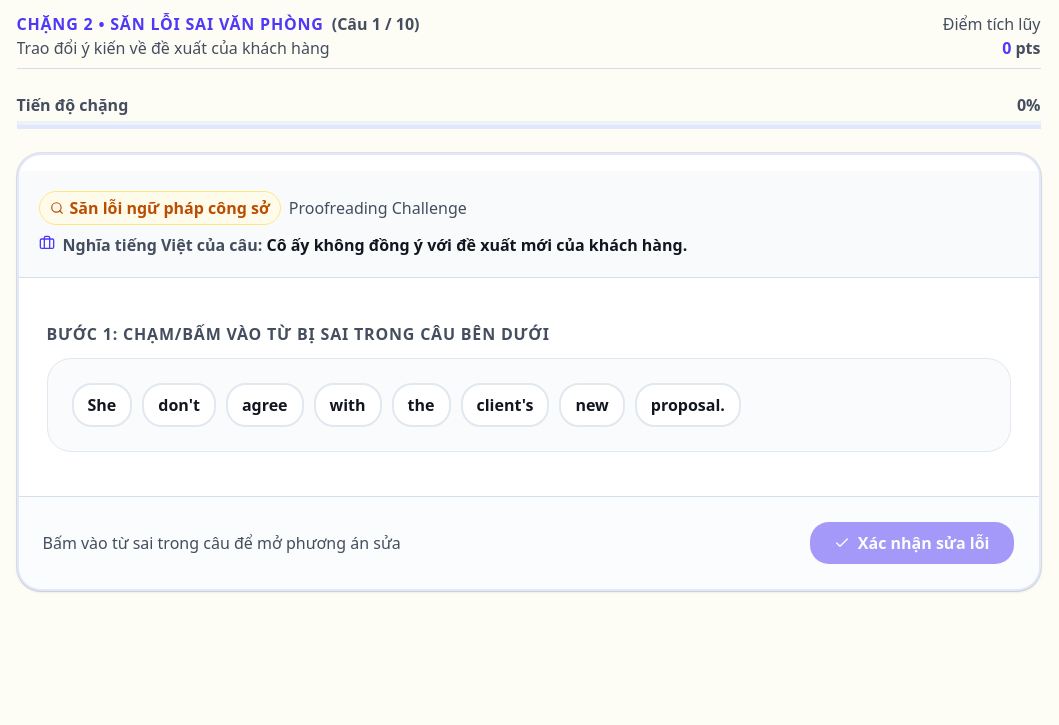
Test: ErrorHunterStage (Stage 2) › disables Submit button until a replacement option is selected
Note: Click error token
Click the button "don't" at x=179, y=405, box left=142, top=383, right=216, bottom=427
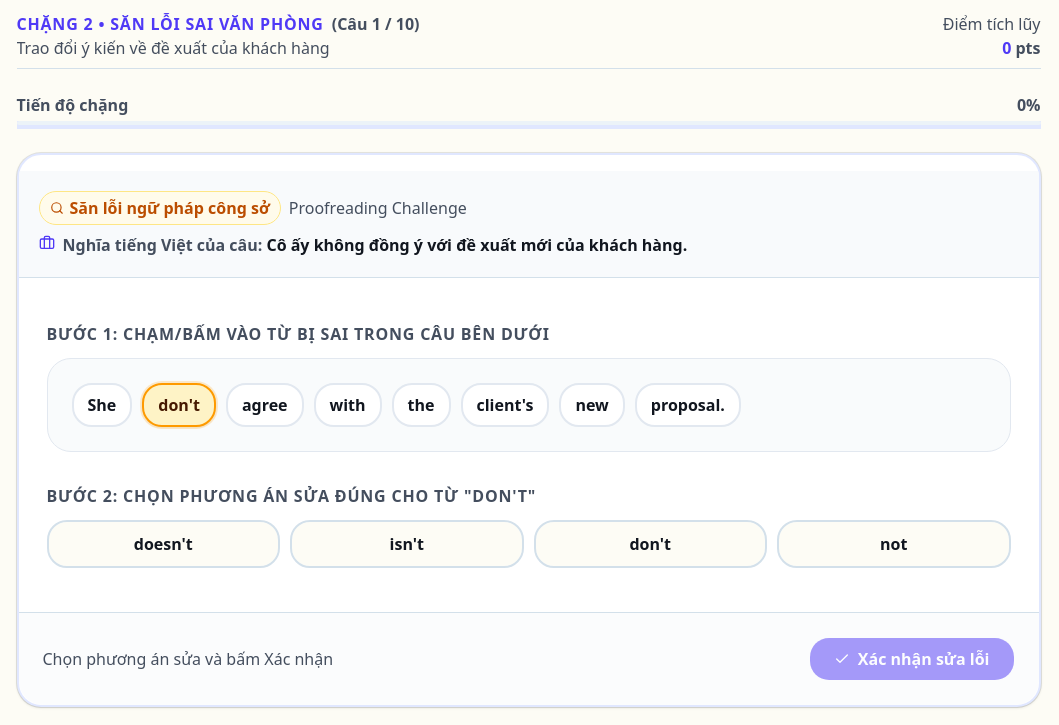
Check: the button "Xác nhận sửa lỗi" is disabled, box left=809, top=637, right=1014, bottom=681
Note: Select replacement "doesn't"
Click the button "doesn't" at x=163, y=544, box left=46, top=520, right=280, bottom=568
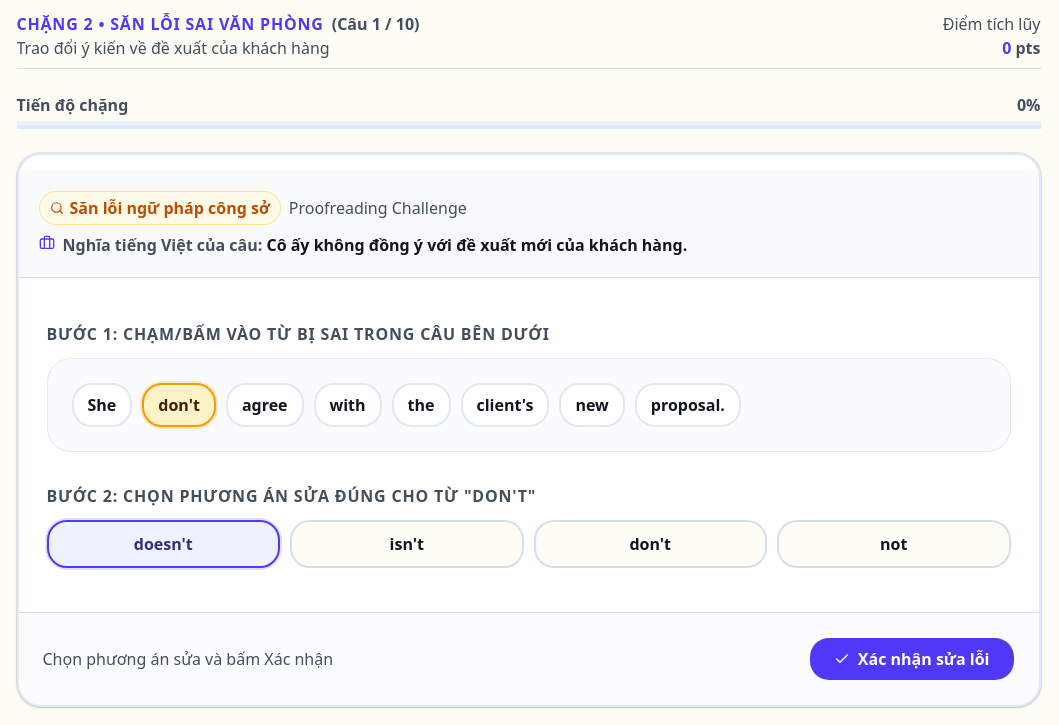
Check: the button "Xác nhận sửa lỗi" is enabled, box left=809, top=637, right=1014, bottom=681
